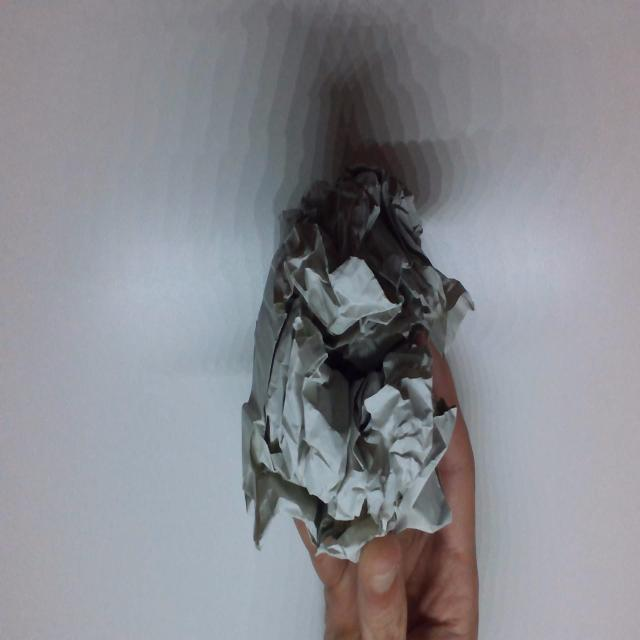Paper: (242, 178, 479, 566)
